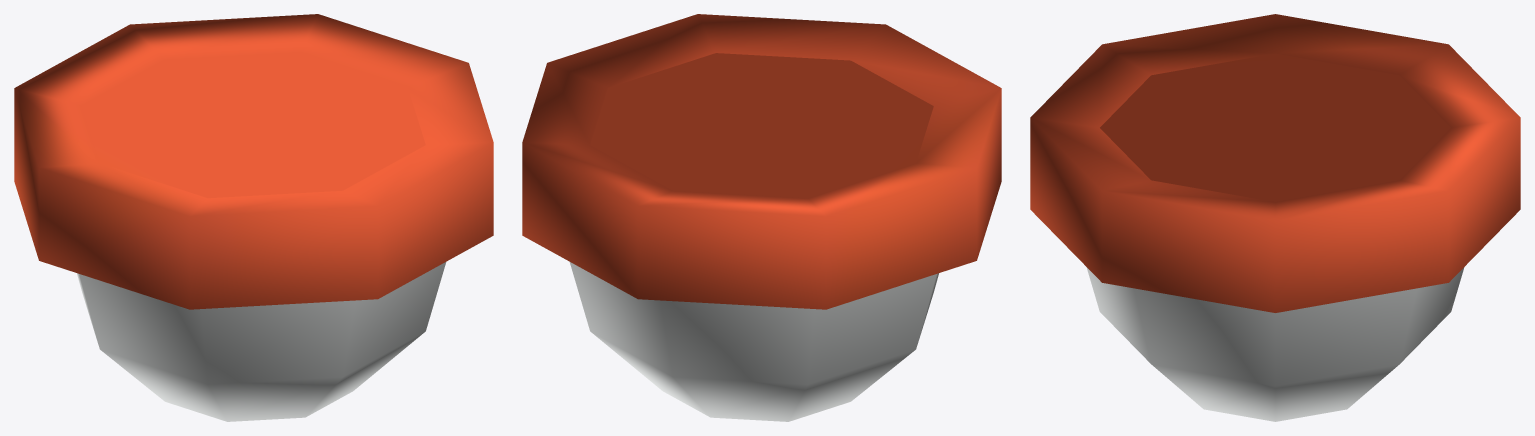
File: Lamb_DEST.fbx
3 views of the same model, side by side, from view 1: azimuth 30°, elevation 25°; view 2: azimuth 150°, elevation 25°; view 3: azimuth 270°, elevation 25° (orthographic).
Parts seen in each view (by area): view 1: den_3; view 2: den_3; view 3: den_3.
Boxes of the visible parts, x1,y1,x2,y2 form: den_3: (14, 14, 493, 421); den_3: (522, 14, 1001, 421); den_3: (1030, 14, 1520, 421).
Size of the model in its own units: 828 by 487 by 828.
